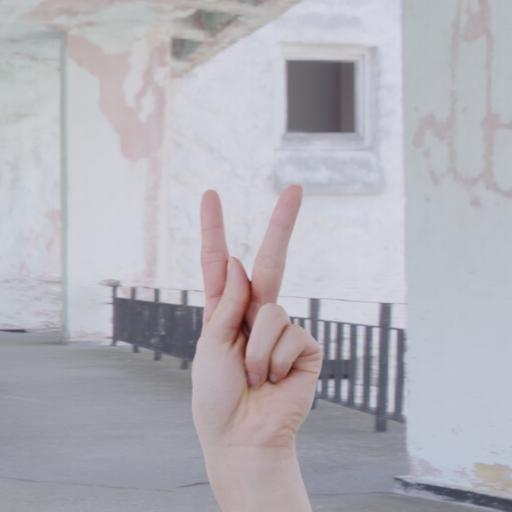K: (165, 175, 342, 512)
